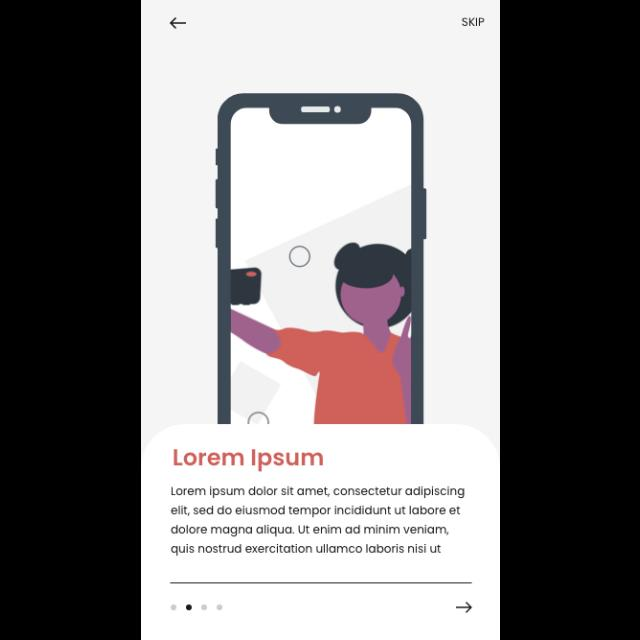icon: (456, 600, 472, 614), (168, 18, 186, 30)
image: (215, 93, 427, 424)
pageindicator: (170, 604, 223, 610)
text: (170, 486, 466, 556), (173, 449, 323, 473), (461, 18, 484, 28)
